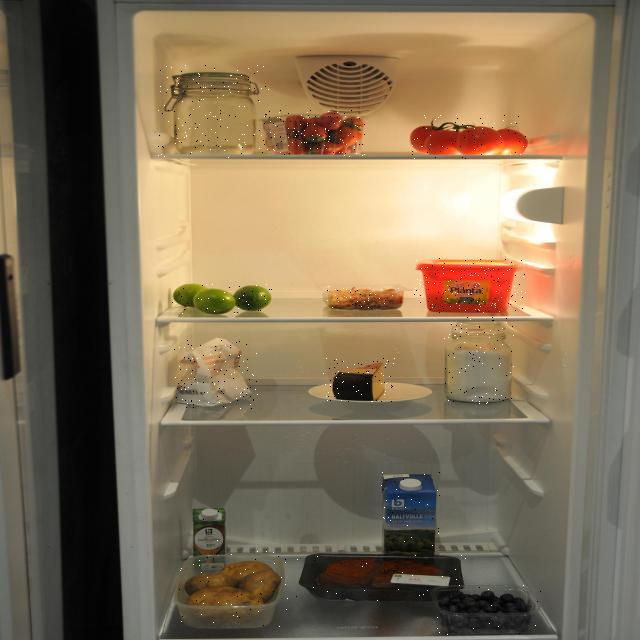beef: (296, 553, 466, 602)
blueberries: (430, 584, 541, 635)
butter: (414, 258, 526, 313)
cheese: (323, 358, 395, 402)
flour: (158, 65, 271, 158), (174, 340, 258, 409)
heavy_cream: (192, 508, 226, 571)
lime: (172, 283, 272, 315)
milk: (381, 472, 440, 570)
potato: (179, 550, 288, 628)
shrimp: (326, 288, 404, 308)
strawberries: (260, 110, 365, 157)
sugar: (444, 316, 514, 404)
tomato: (408, 115, 529, 159)
